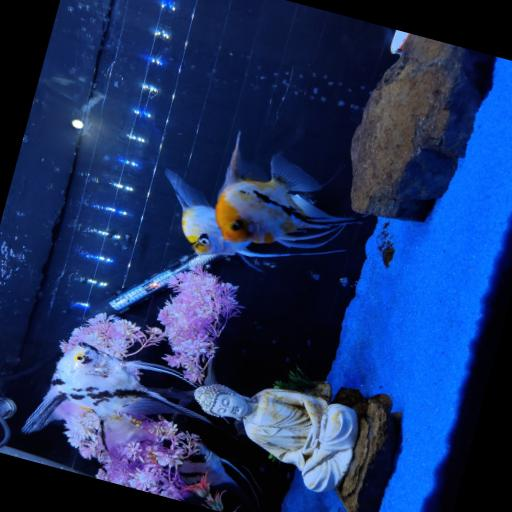Fish: (23, 342, 210, 451), (215, 133, 359, 248), (165, 170, 341, 257), (179, 446, 258, 503)
